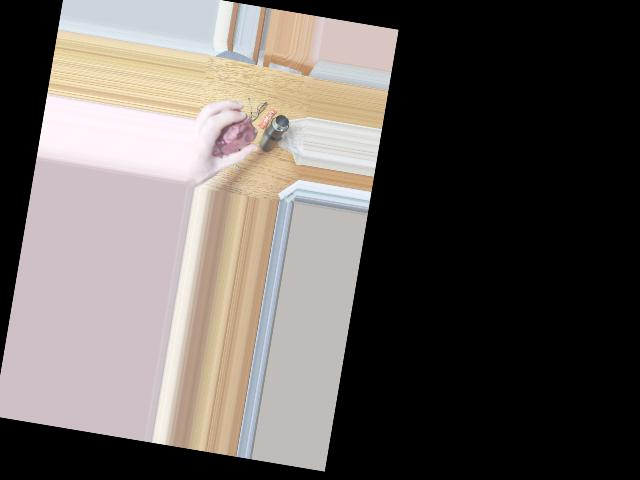onion: (210, 106, 256, 158)
